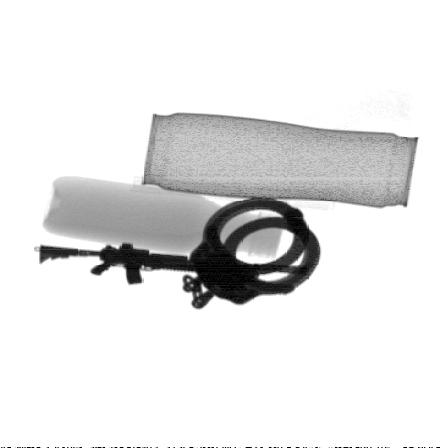Gun: (36, 241, 311, 286)
HandCuffs: (177, 194, 322, 310)
